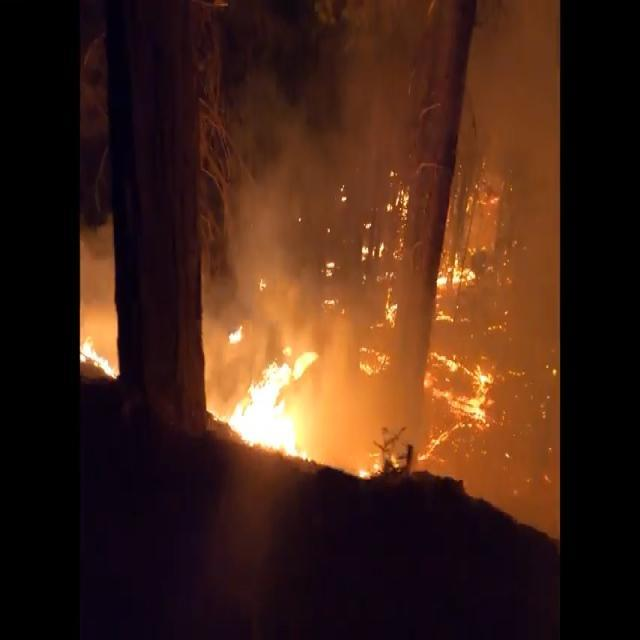Fire: (212, 315, 334, 462), (424, 338, 500, 467), (433, 233, 485, 297), (79, 323, 121, 382)
